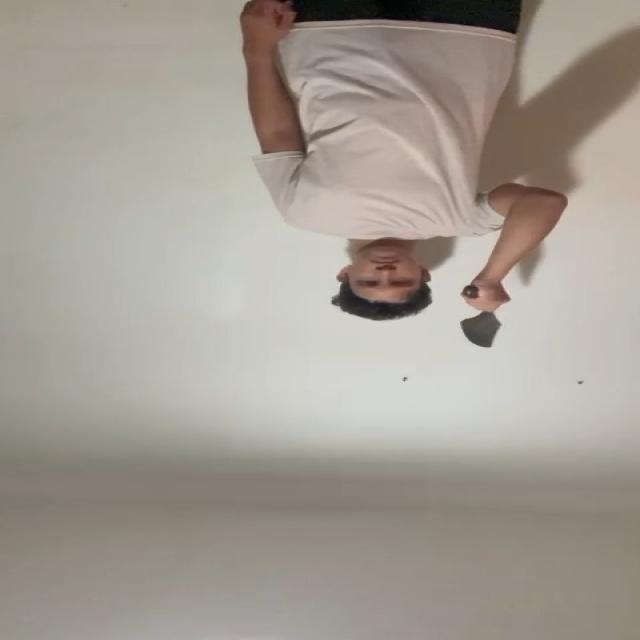knife: (462, 313, 502, 348)
